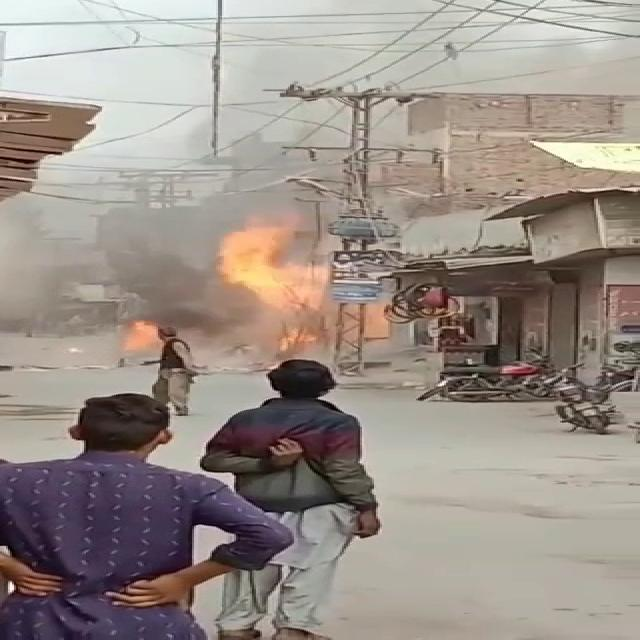Fire: (216, 221, 336, 361), (118, 309, 168, 367)
